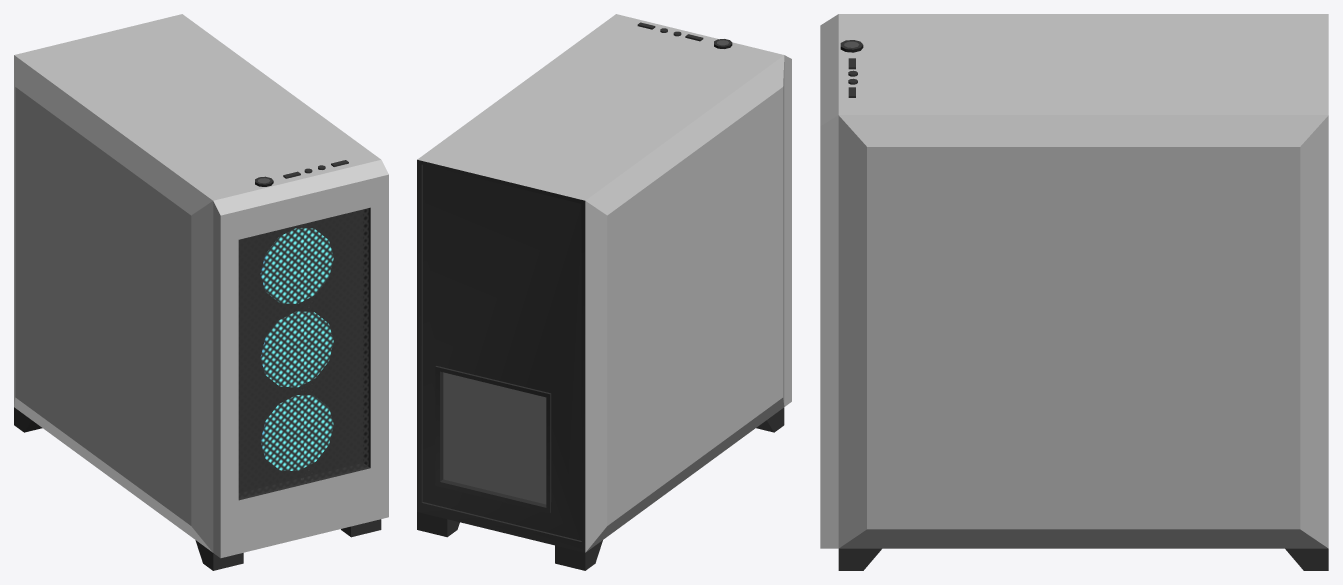
The model's file is computer_2.glb.
The picture shows the model from 3 angles, left to right: view 1: azimuth 30°, elevation 25°; view 2: azimuth 150°, elevation 25°; view 3: azimuth 270°, elevation 25°; orthographic projection. The views are drawn at different scales.
Parts seen in each view (by area): view 1: PC Case 4; view 2: PC Case 4; view 3: PC Case 4.
Boxes of the visible parts, <box> form: PC Case 4: <box>14,14,388,570</box>; PC Case 4: <box>417,14,791,570</box>; PC Case 4: <box>820,14,1328,570</box>.
Bounding box in the file's own units: 0.2548 × 0.4803 × 0.4825.
3 materials, 2 textured.
